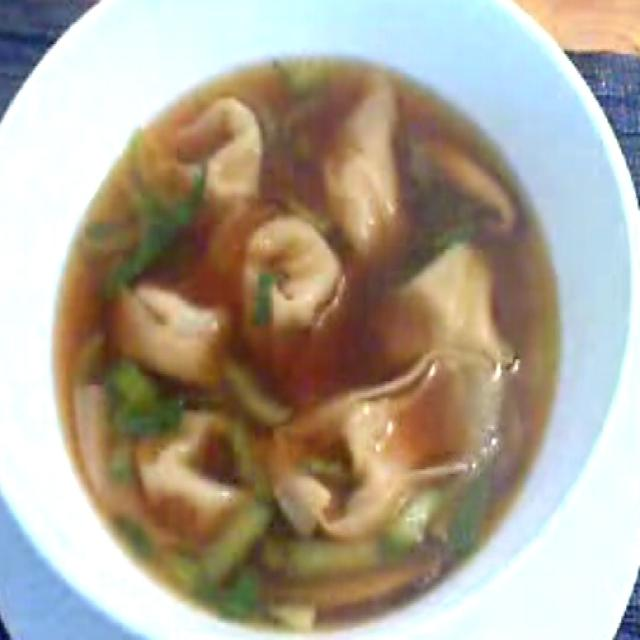汤锅炖物: (5, 6, 634, 632)
